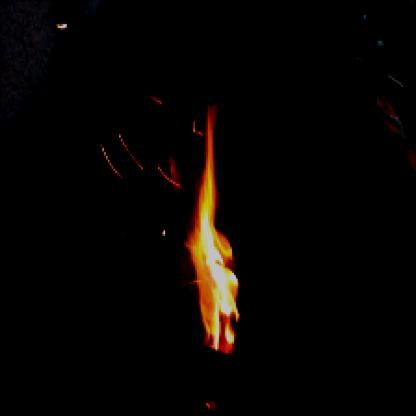Fire: (171, 102, 245, 357)
